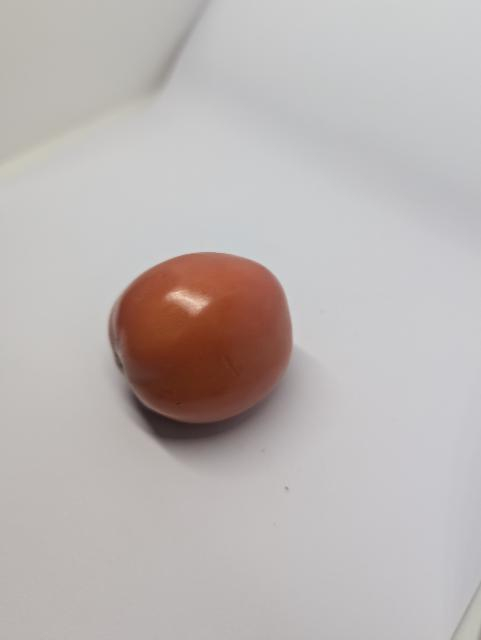red: (101, 245, 296, 439)
